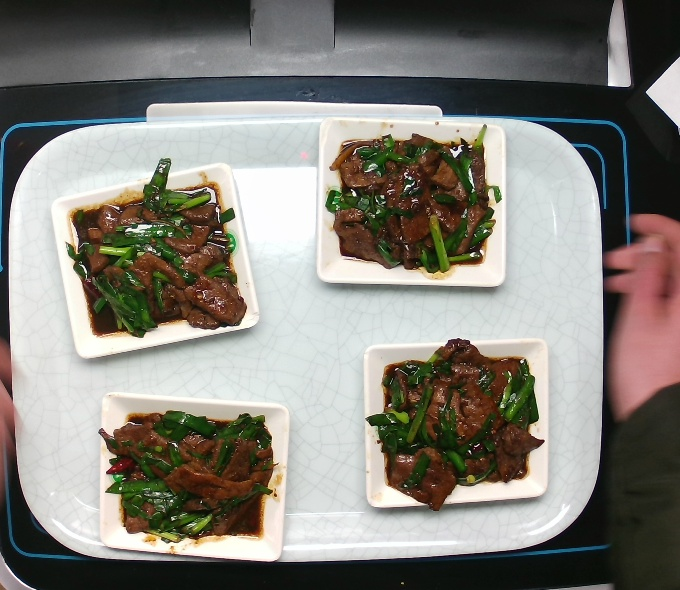wcq-ZhuGan: (53, 156, 256, 347), (361, 334, 552, 517), (321, 123, 511, 284), (81, 399, 285, 547)
